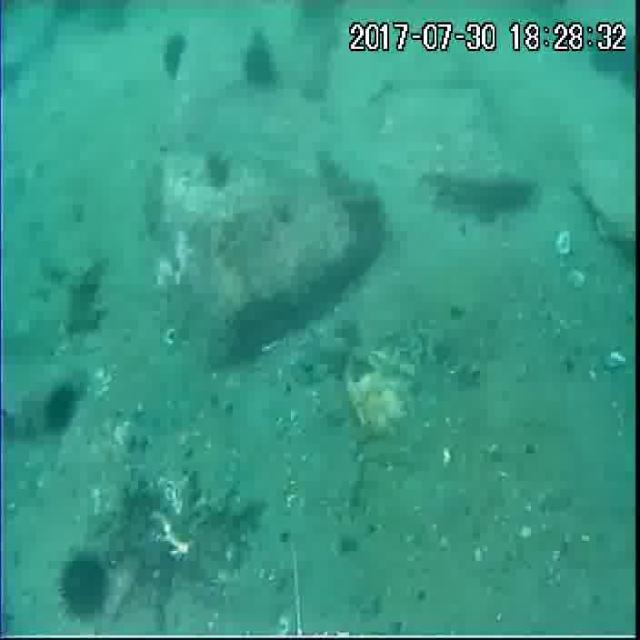echinus: (57, 549, 111, 622), (586, 26, 636, 80), (240, 32, 280, 89), (41, 381, 80, 436), (166, 34, 188, 84)
